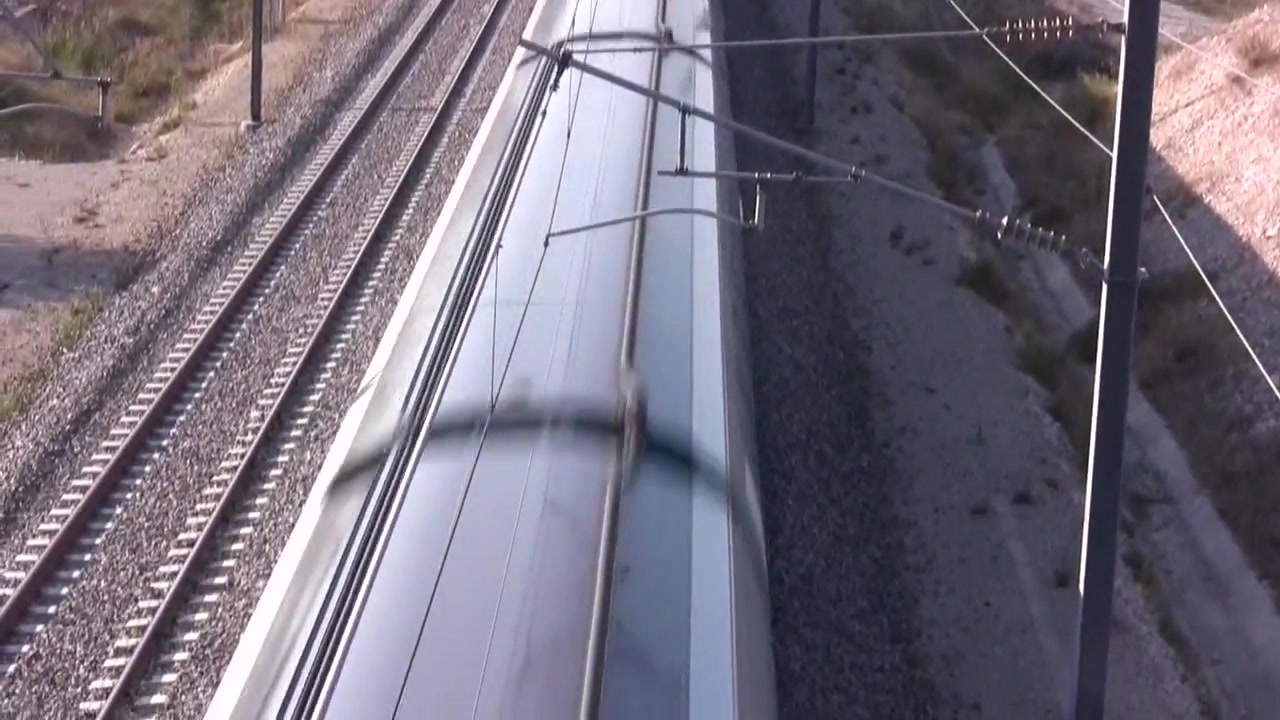train: (200, 1, 789, 720)
